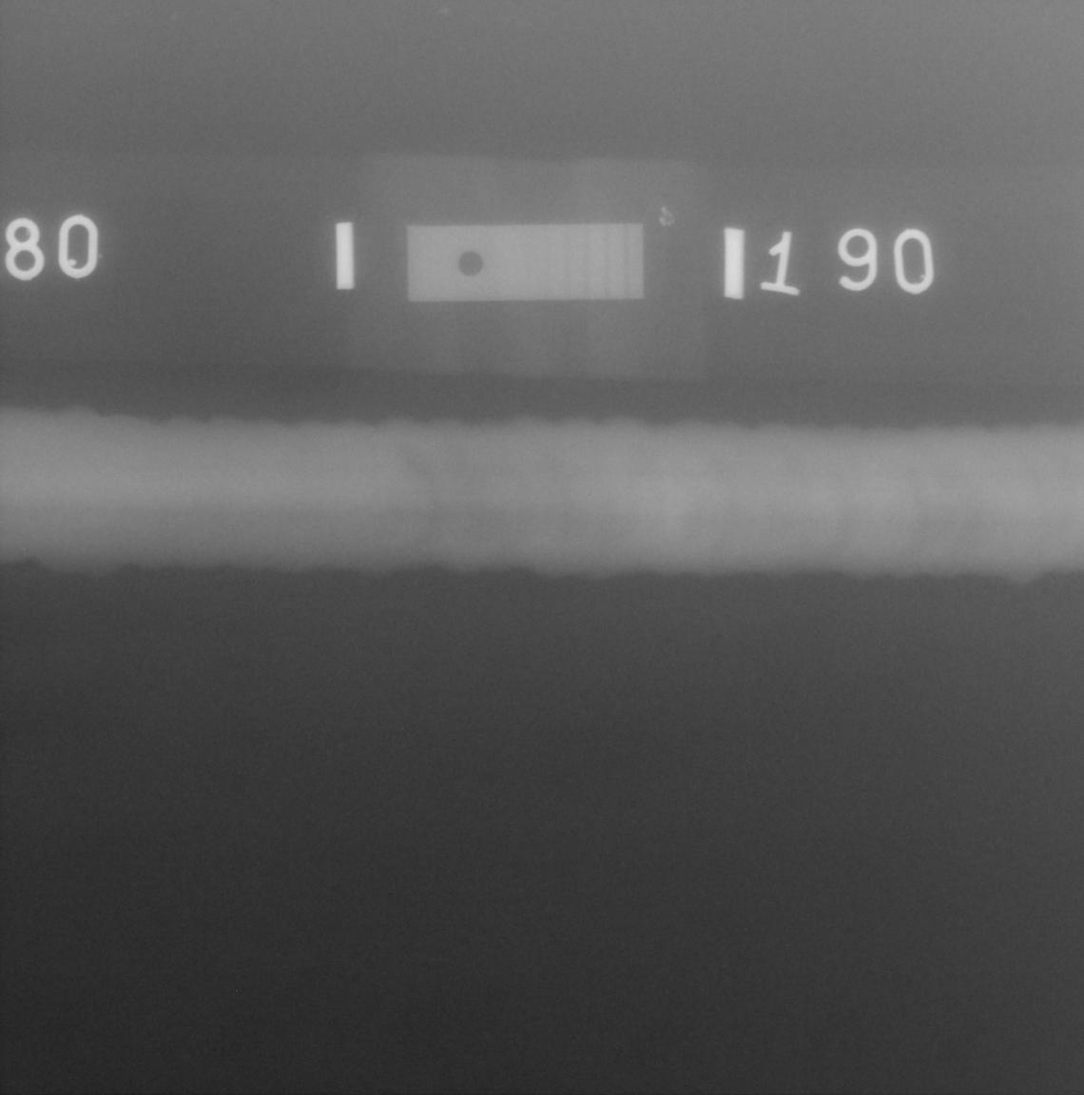Reference Standard 1: (406, 223, 645, 302)
